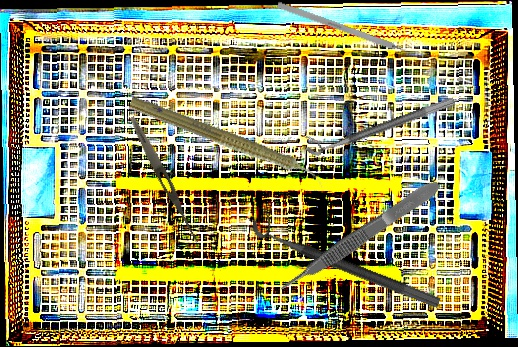Dressing Forceps: (126, 114, 204, 246)
Fixation Ring: (248, 206, 448, 310), (300, 84, 457, 160)
Handpiece: (125, 92, 330, 192)
Hook Surgical: (276, 1, 422, 60)
Tissue Forceps: (275, 177, 444, 296)
